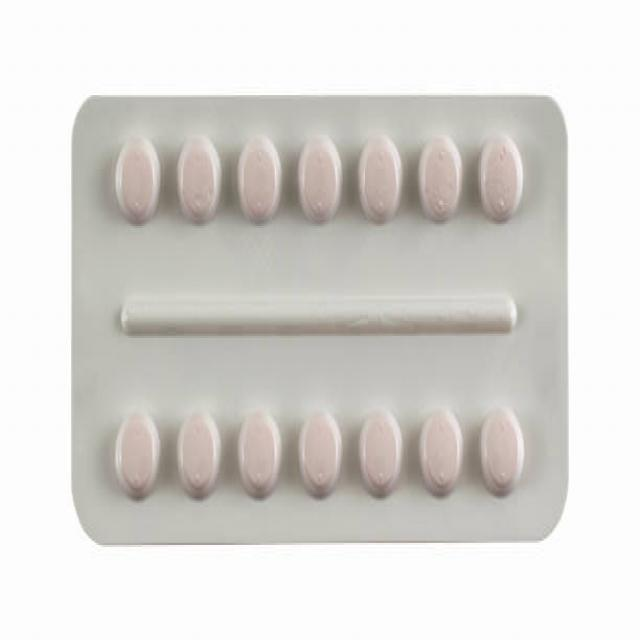Pill: (229, 386, 288, 508), (106, 384, 163, 510), (354, 107, 407, 239), (168, 386, 223, 512), (234, 112, 288, 240), (475, 114, 529, 239), (171, 107, 224, 234), (355, 379, 407, 508), (292, 394, 351, 506), (415, 110, 466, 239), (413, 390, 469, 507), (296, 107, 346, 238), (477, 388, 528, 509), (110, 111, 160, 231)
